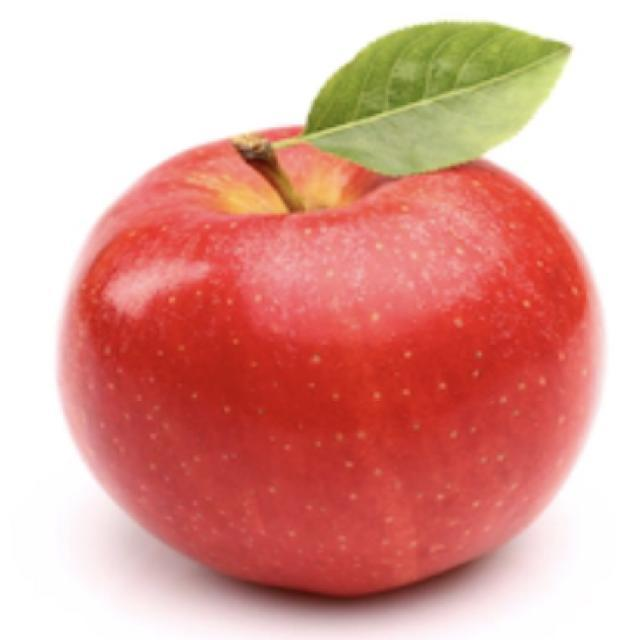Fresh Apple: (70, 134, 572, 634)
